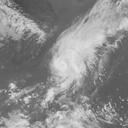cyclone: (48, 35, 88, 82)
